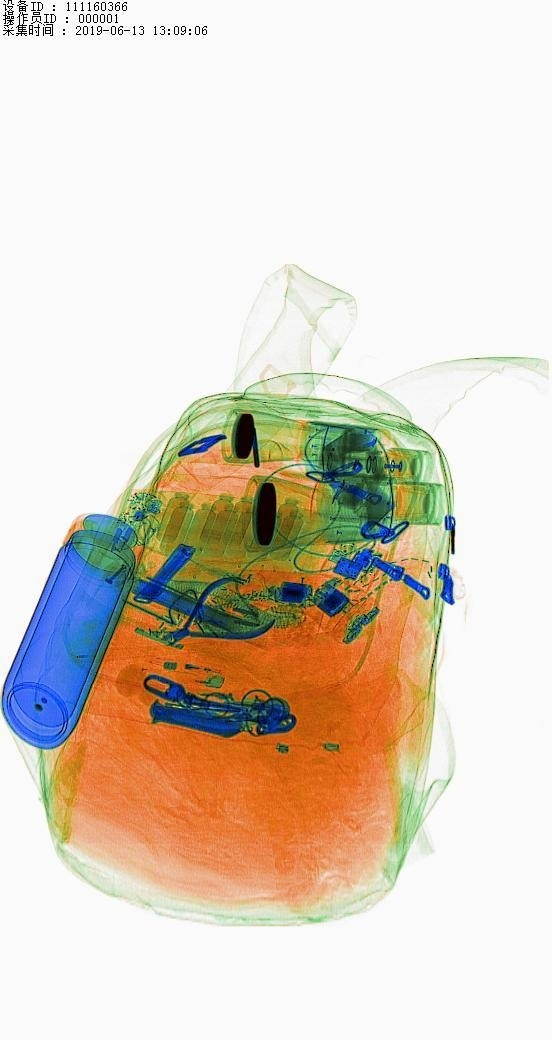NonmetallicFire: (148, 647, 240, 692)
